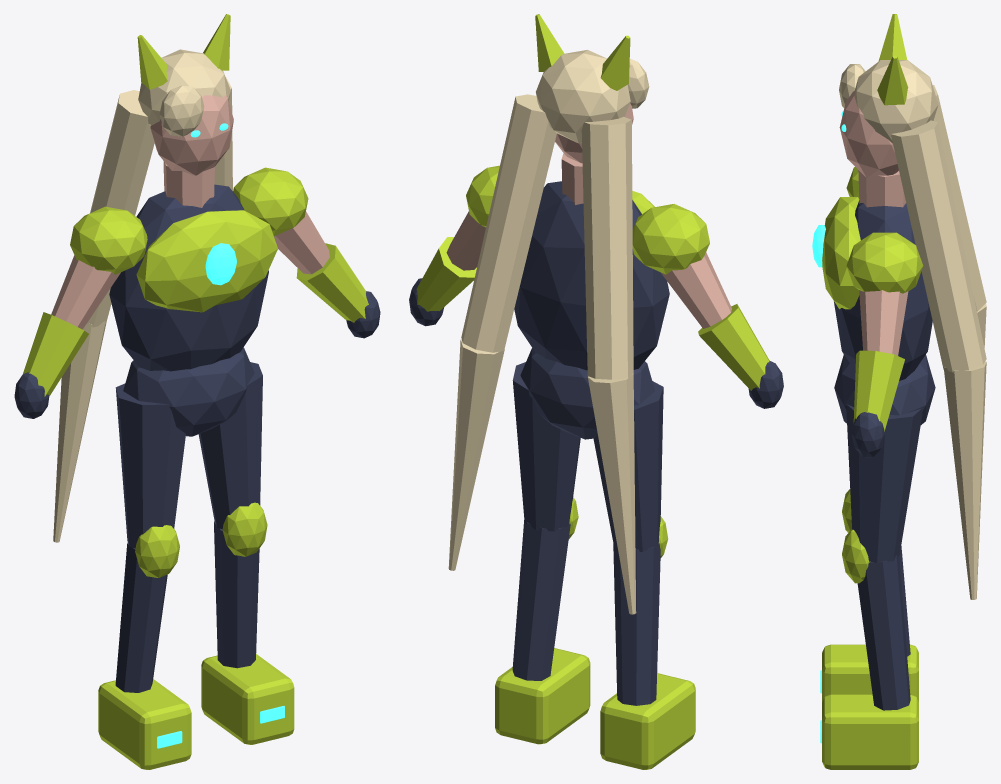
The model's file is SM_Jinx.fbx.
3 views of the same model, side by side, from view 1: azimuth 30°, elevation 25°; view 2: azimuth 150°, elevation 25°; view 3: azimuth 270°, elevation 25° (orthographic). The views are drawn at different scales.
Parts seen in each view (by area): view 1: SM_Jinx; view 2: SM_Jinx; view 3: SM_Jinx.
Part boxes in pixels (x1,y1,x2,y2): SM_Jinx: (14, 14, 380, 769); SM_Jinx: (409, 14, 783, 769); SM_Jinx: (812, 14, 986, 769).
Bounding box in the file's own units: 98.18 × 41.3 × 183.
